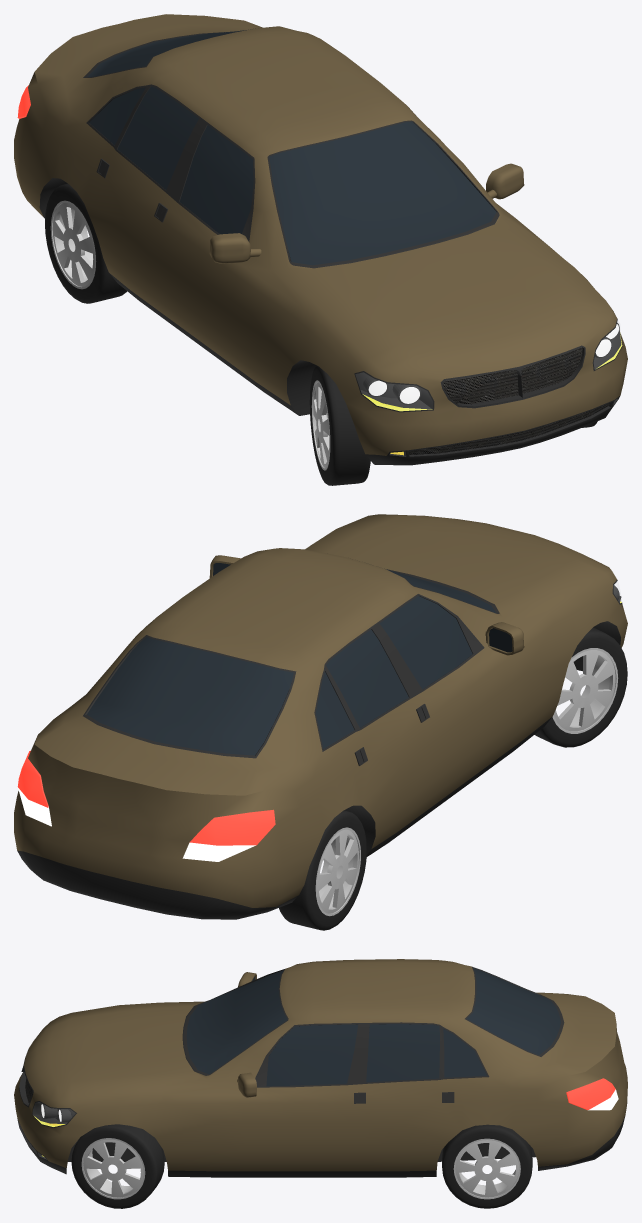
Rendered from car-2.glb.
3 views of the same model, one above another, from view 1: azimuth 30°, elevation 25°; view 2: azimuth 150°, elevation 25°; view 3: azimuth 270°, elevation 25° (orthographic). The views are drawn at different scales.
Parts seen in each view (by area): view 1: CarBody.002, Wheel.007, Wheel.006; view 2: CarBody.002, Wheel.006, Wheel.007; view 3: CarBody.002, Wheel.004, Wheel.005.
Boxes of the visible parts, bbox=[...] form: CarBody.002: bbox=[14, 14, 627, 465]; Wheel.007: bbox=[45, 183, 127, 303]; Wheel.006: bbox=[309, 365, 370, 485]; CarBody.002: bbox=[14, 514, 627, 919]; Wheel.006: bbox=[534, 627, 627, 747]; Wheel.007: bbox=[279, 810, 366, 930]; CarBody.002: bbox=[14, 959, 627, 1177]; Wheel.004: bbox=[71, 1124, 164, 1208]; Wheel.005: bbox=[442, 1124, 532, 1208].
Size of the model in its own units: 1.92 by 1.43 by 4.45.
10 materials, 1 textured.
